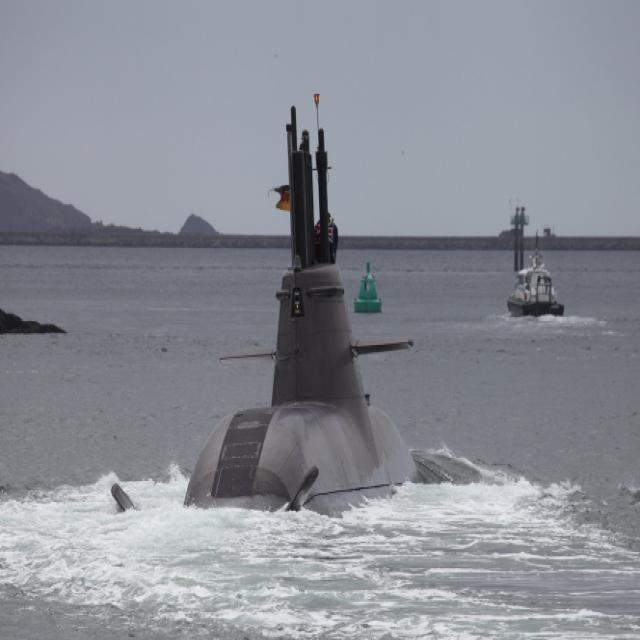submarine: (101, 85, 466, 541)
